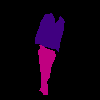maglione: (35, 12, 64, 52)
pantaloni: (38, 44, 56, 94)
